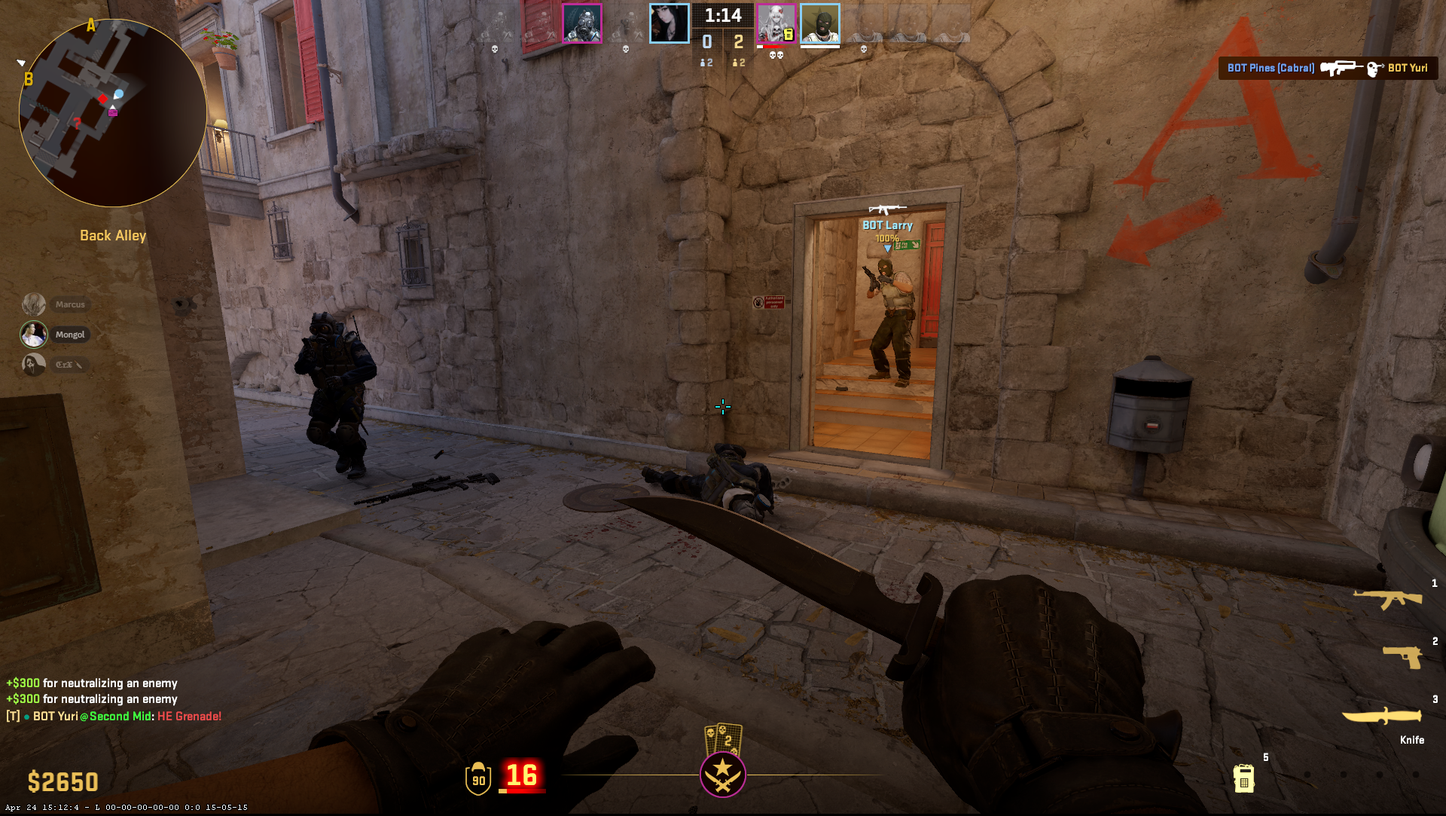CT: (297, 313, 379, 479)
T: (867, 258, 915, 387)
